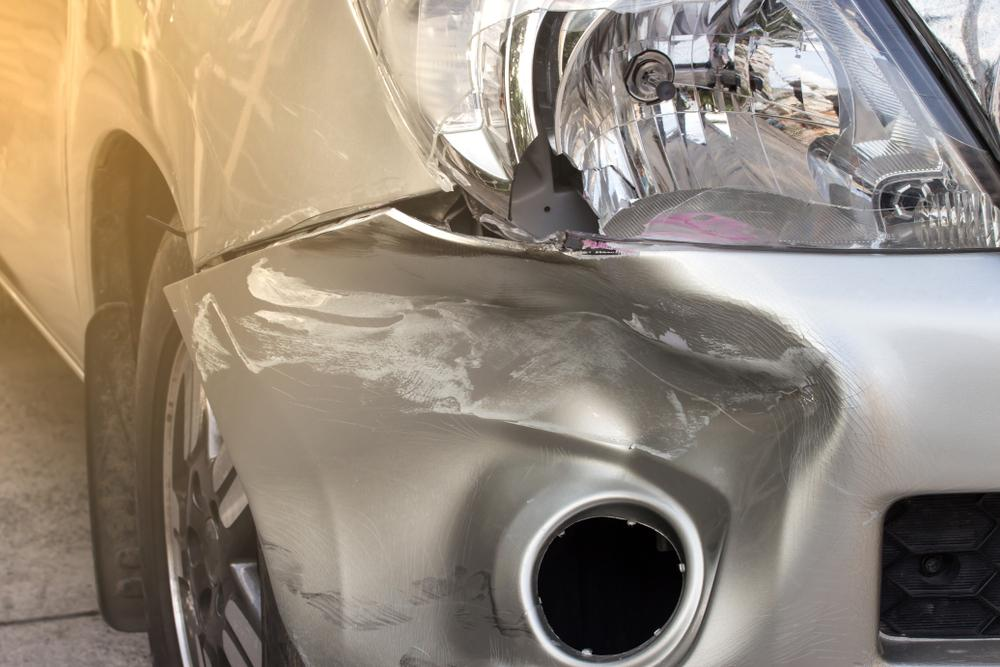dent: (255, 216, 846, 667)
lamp broken: (360, 0, 1000, 253)
scratch: (187, 260, 261, 385)
